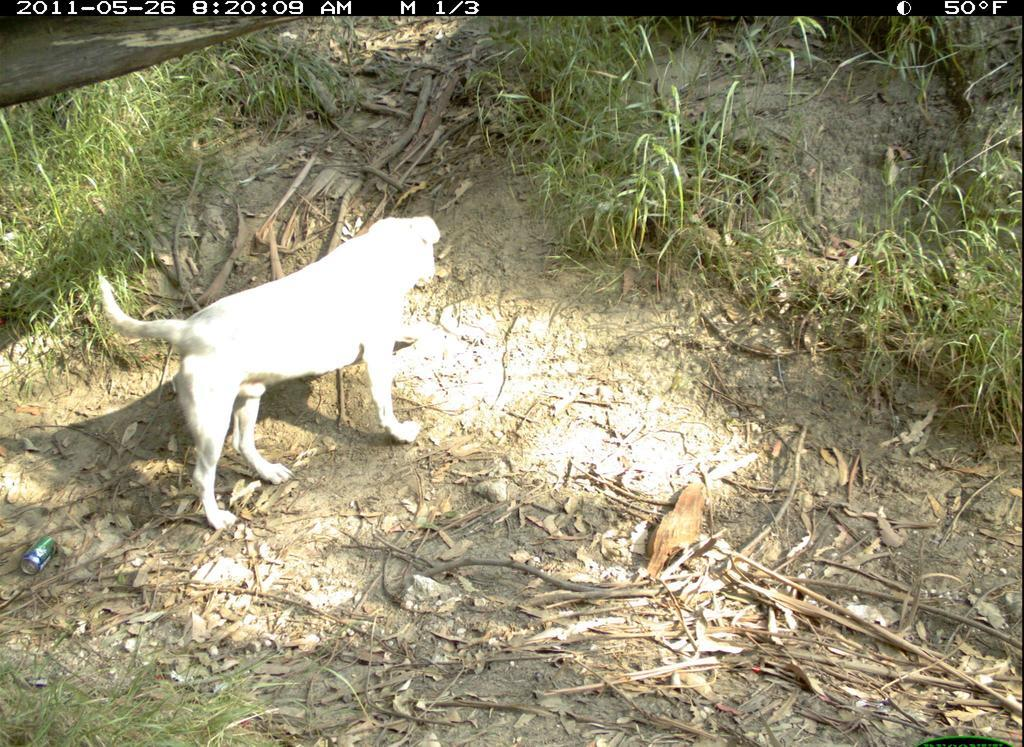dog: (86, 207, 452, 541)
